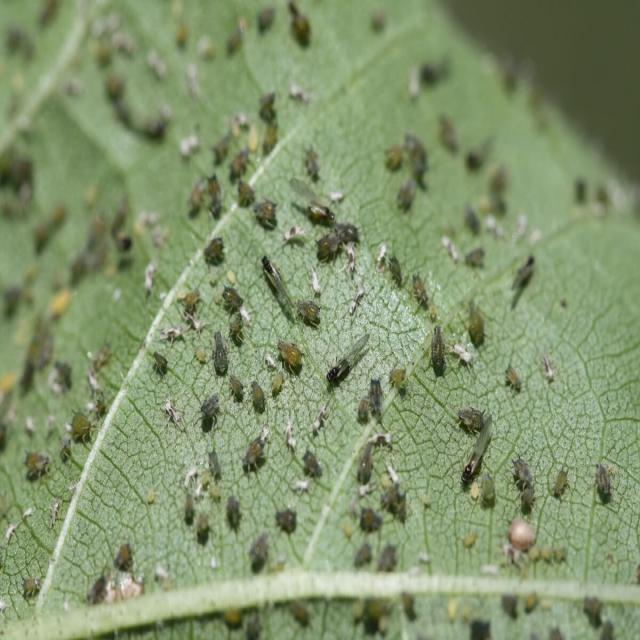Aphid-Grown-: (68, 404, 111, 449), (462, 292, 493, 348), (276, 336, 314, 378), (423, 319, 450, 372), (210, 338, 233, 377), (247, 378, 269, 415), (226, 371, 248, 400)
Aphid-Grown-have wings-: (458, 406, 496, 495), (320, 330, 372, 385), (259, 248, 294, 314)
